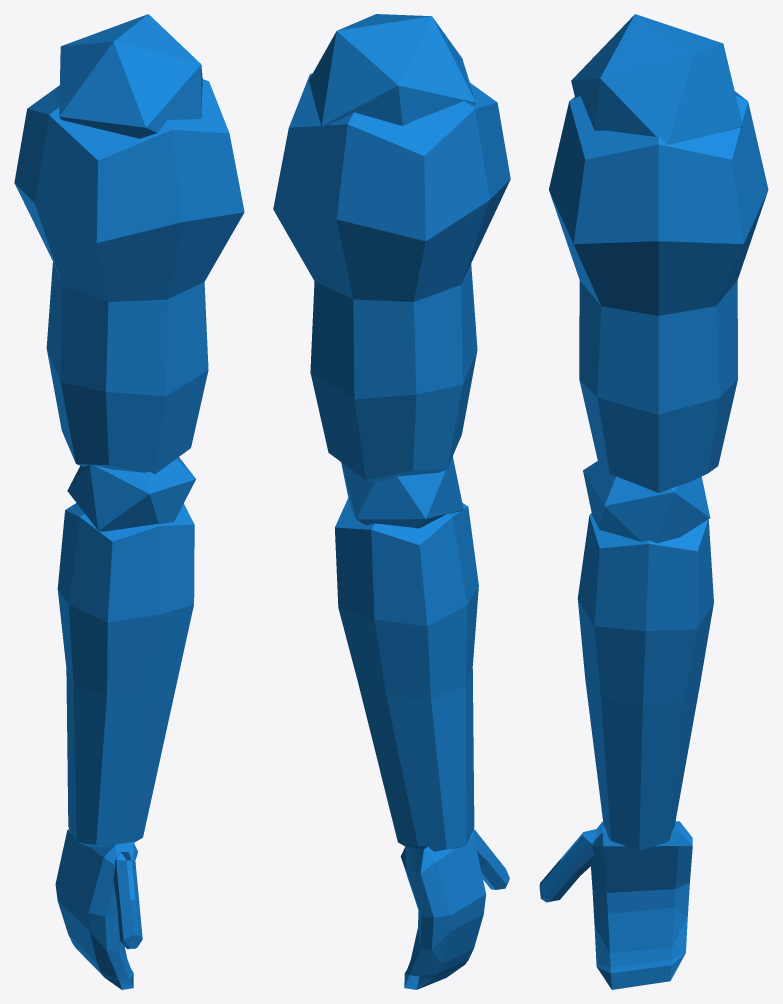
File: left_arm.fbx
The picture shows the model from 3 angles, left to right: view 1: azimuth 30°, elevation 25°; view 2: azimuth 150°, elevation 25°; view 3: azimuth 270°, elevation 25°; orthographic projection. The views are drawn at different scales.
Visible parts, largest first — view 1: LEFT_SHOULDER; view 2: LEFT_SHOULDER; view 3: LEFT_SHOULDER.
Boxes of the visible parts, x1,y1,x2,y2 form: LEFT_SHOULDER: (14,14,244,989); LEFT_SHOULDER: (273,14,510,989); LEFT_SHOULDER: (539,14,768,989).
Bounding box in the file's own units: 0.274 × 1.29 × 0.2761.
